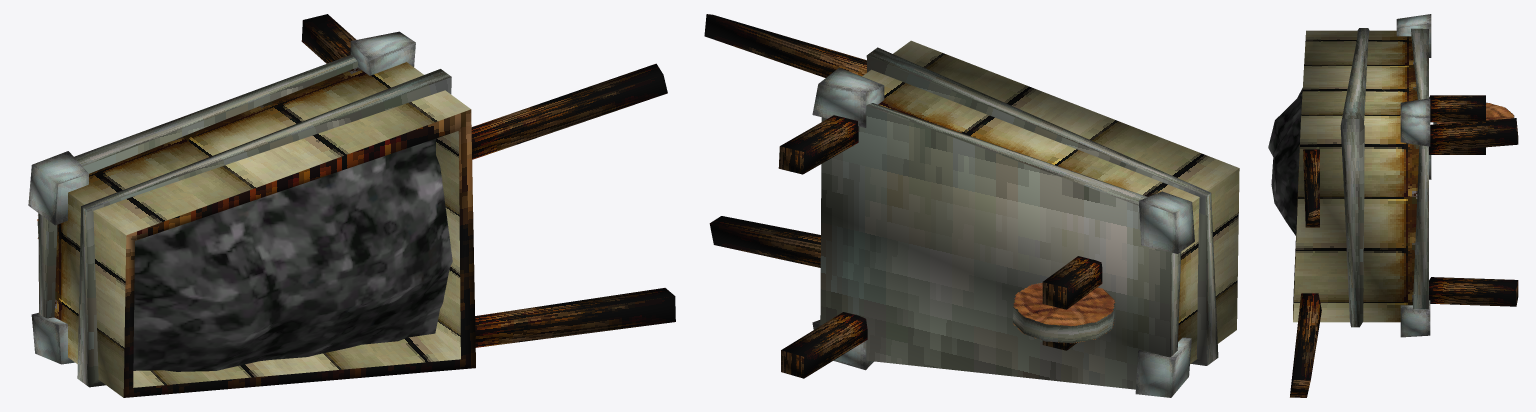
The model's file is INST_SWORDLIGHT_WHLBRRWORE.fbx.
The picture shows the model from 3 angles, left to right: view 1: azimuth 30°, elevation 25°; view 2: azimuth 150°, elevation 25°; view 3: azimuth 270°, elevation 25°; orthographic projection. The views are drawn at different scales.
Visible parts, largest first — view 1: INST_SWORDLIGHT_WHLBRRWORE; view 2: INST_SWORDLIGHT_WHLBRRWORE; view 3: INST_SWORDLIGHT_WHLBRRWORE.
Boxes of the visible parts, left/top/right/bottom form: INST_SWORDLIGHT_WHLBRRWORE: left=28, top=14, right=675, bottom=397; INST_SWORDLIGHT_WHLBRRWORE: left=704, top=14, right=1239, bottom=397; INST_SWORDLIGHT_WHLBRRWORE: left=1268, top=14, right=1518, bottom=397.
Bounding box in the file's own units: 18830 × 9246 × 9546.
Materials: 6 (6 with a texture image).
